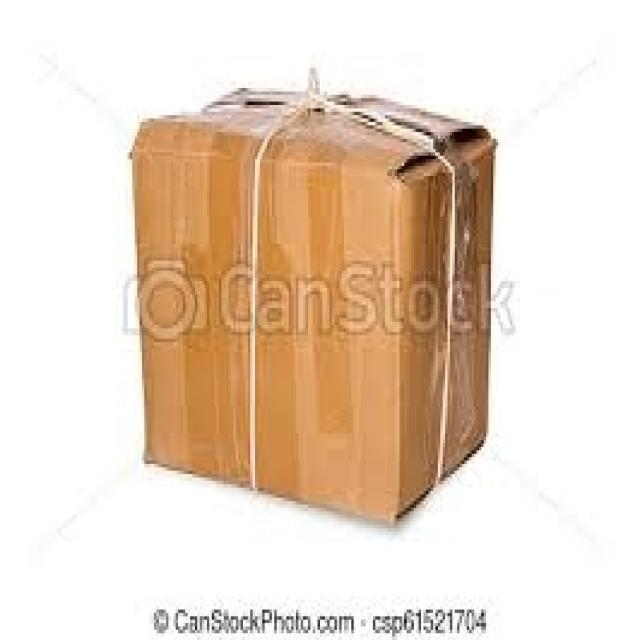cardboard paper: (131, 89, 493, 519)
